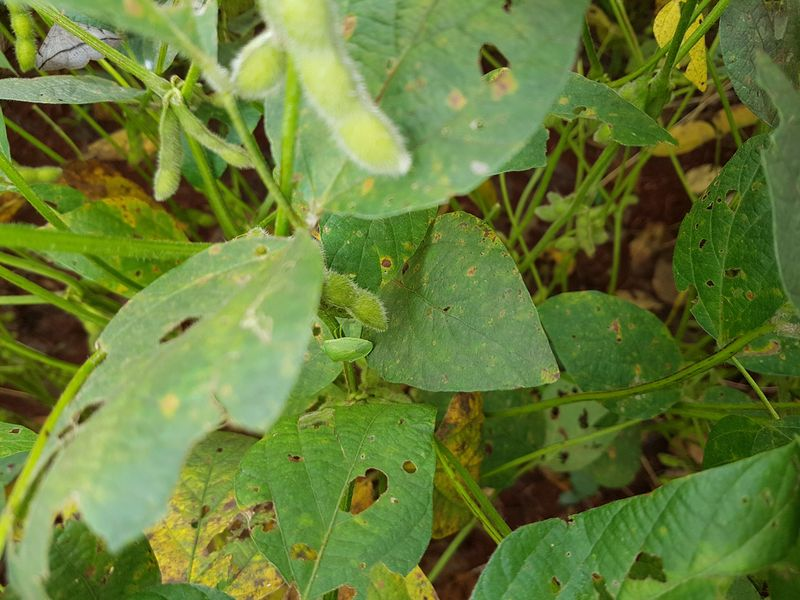Nezara_viridula_adulto: (301, 311, 384, 372)
